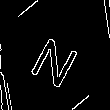N_NE: (25, 23, 85, 87)
